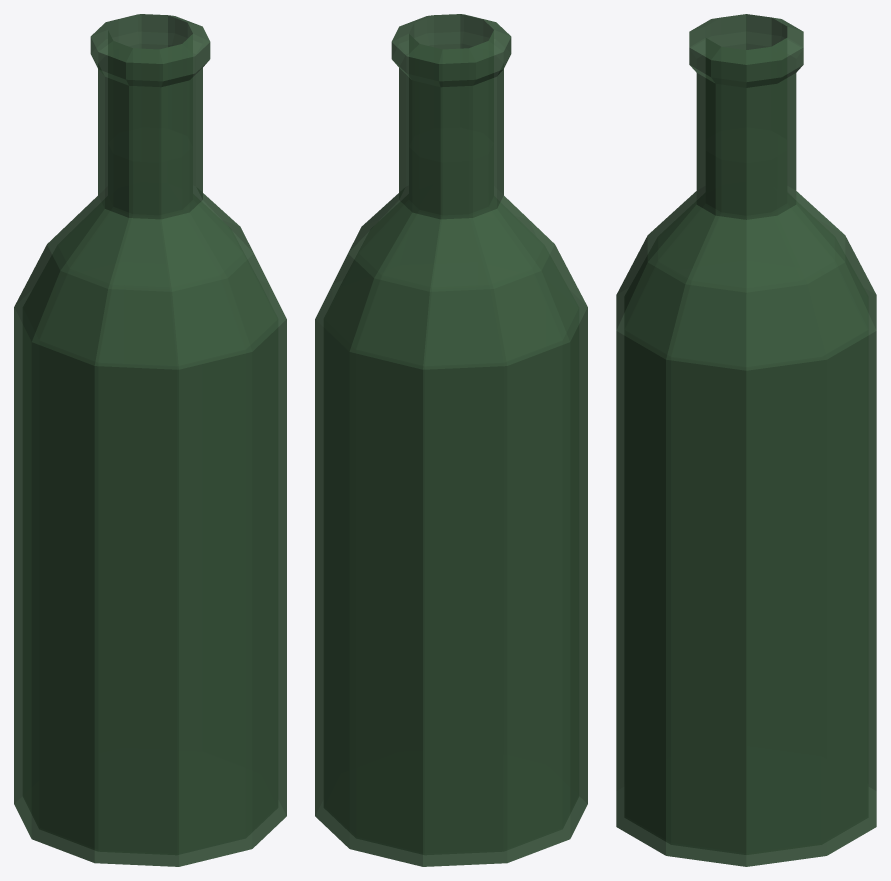
Rendered from TallBottleSolo.fbx.
The picture shows the model from 3 angles, left to right: view 1: azimuth 30°, elevation 25°; view 2: azimuth 150°, elevation 25°; view 3: azimuth 270°, elevation 25°; orthographic projection.
Visible parts, largest first — view 1: TallBottle; view 2: TallBottle; view 3: TallBottle.
Boxes of the visible parts, x1=… form: TallBottle: x1=14, y1=14, x2=286, y2=866; TallBottle: x1=315, y1=14, x2=587, y2=866; TallBottle: x1=616, y1=14, x2=876, y2=866.
Size of the model in its own units: 2 by 6.26 by 1.9.
